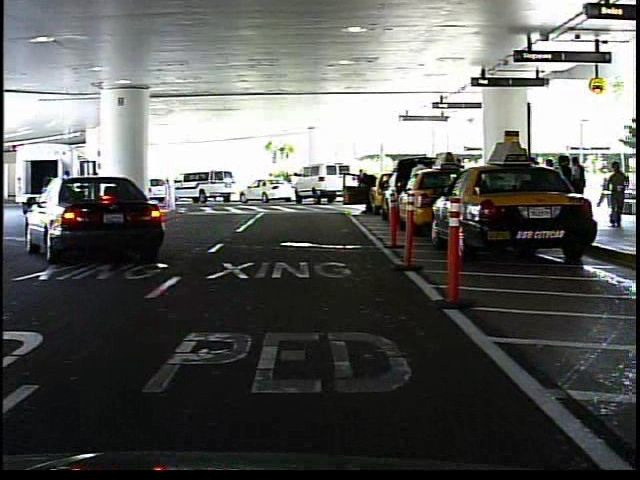person: (605, 159, 632, 229), (355, 163, 378, 219), (283, 169, 294, 198), (267, 172, 276, 179)
